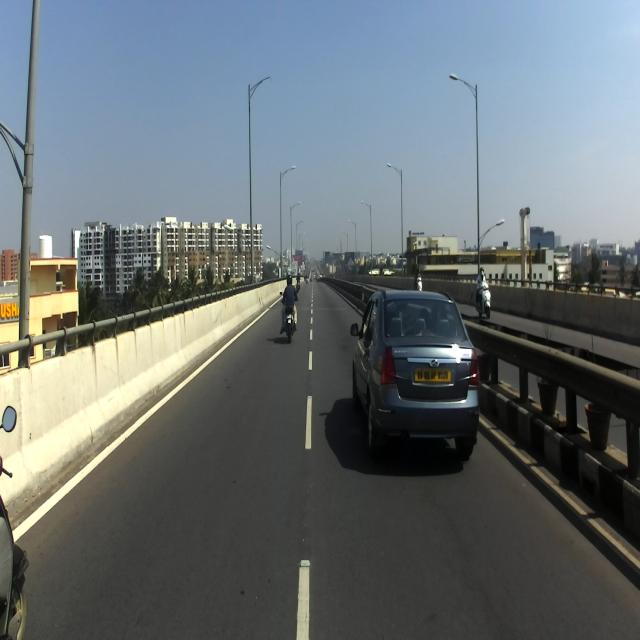car ahead at: (350, 287, 481, 457)
